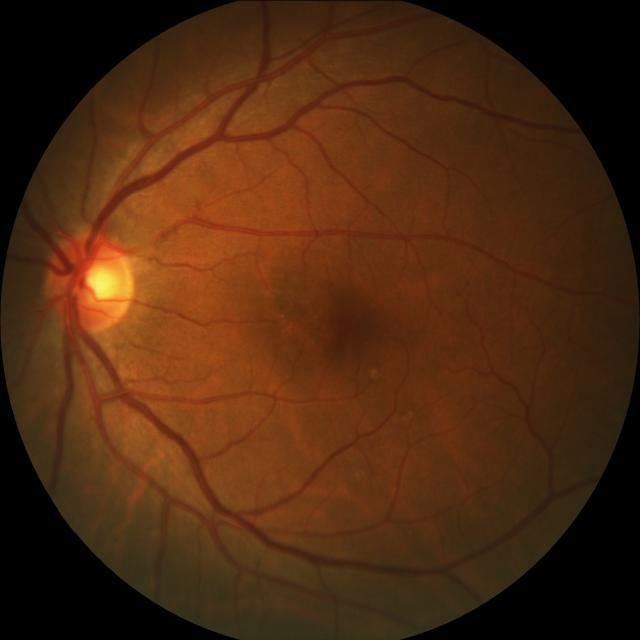OC: (84, 266, 119, 300)
OD: (45, 228, 137, 335)
